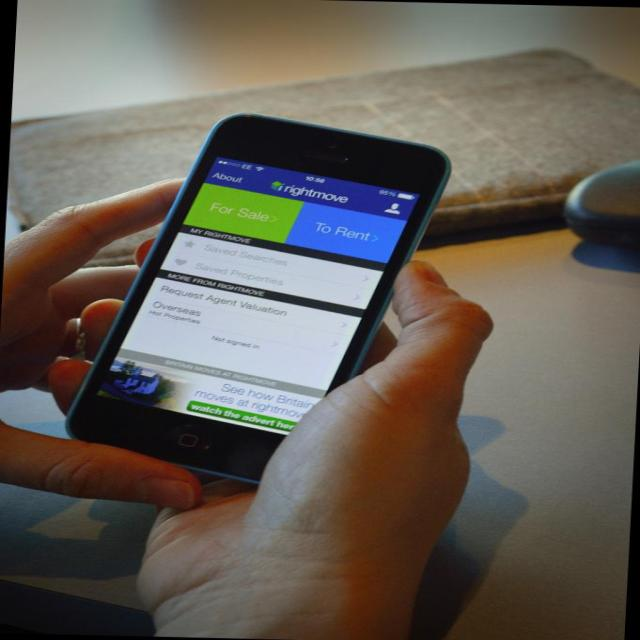handphone: (87, 116, 470, 497)
